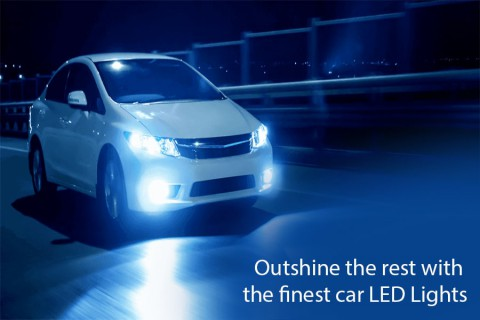headlight: (124, 122, 268, 161)
